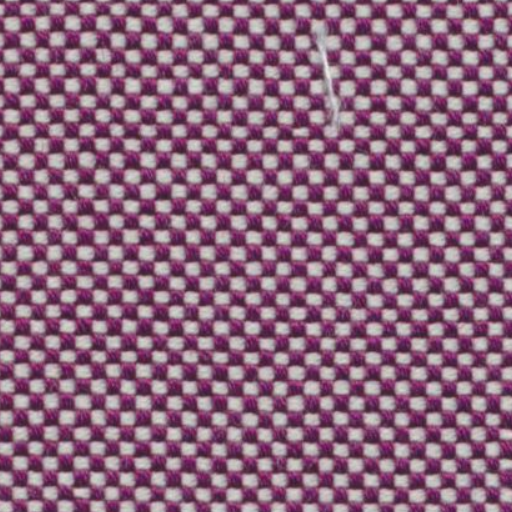DuanSha: (293, 32, 356, 134)
